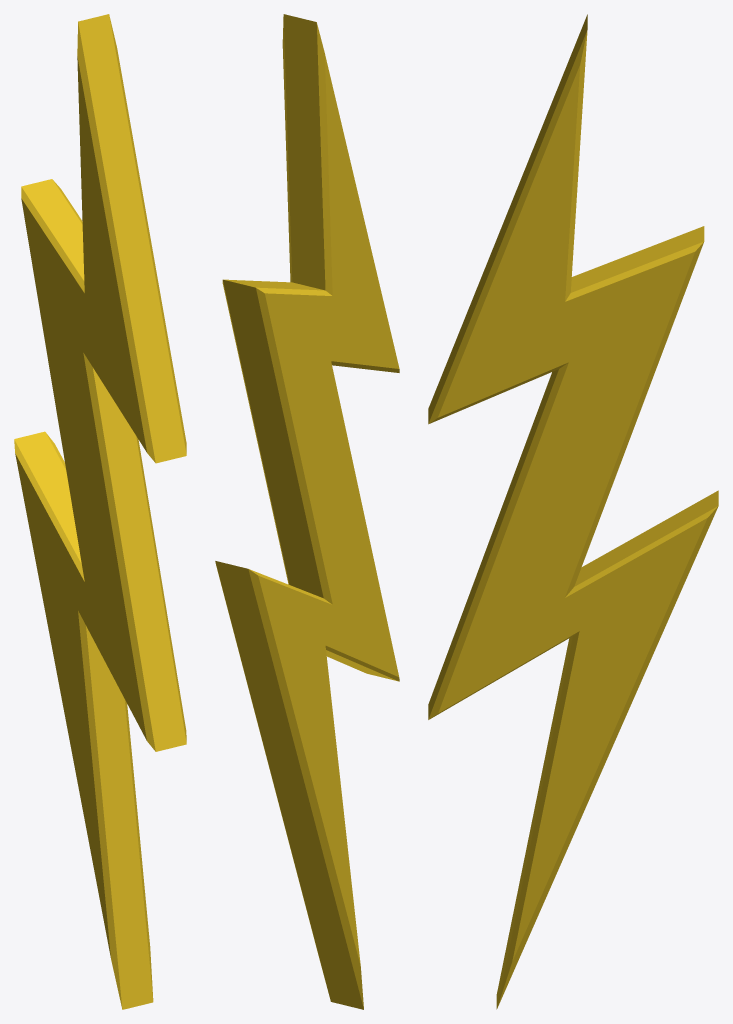
Rendered from MasterBolt_V1.fbx.
3 renders of one model, left to right at view 1: azimuth 30°, elevation 25°; view 2: azimuth 150°, elevation 25°; view 3: azimuth 270°, elevation 25°, orthographic. The views are drawn at different scales.
Parts seen in each view (by area): view 1: Masterbolt; view 2: Masterbolt; view 3: Masterbolt.
Boxes of the visible parts, x1=… form: Masterbolt: x1=14, y1=14, x2=186, y2=1009; Masterbolt: x1=215, y1=14, x2=399, y2=1009; Masterbolt: x1=428, y1=14, x2=718, y2=1009.
Bounding box in the file's own units: 0.2317 × 5.35 × 1.44.
